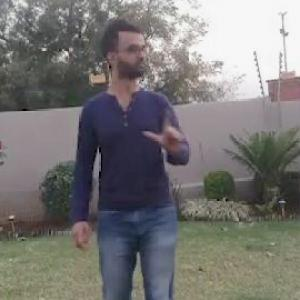land_hand: (141, 105, 189, 159)
